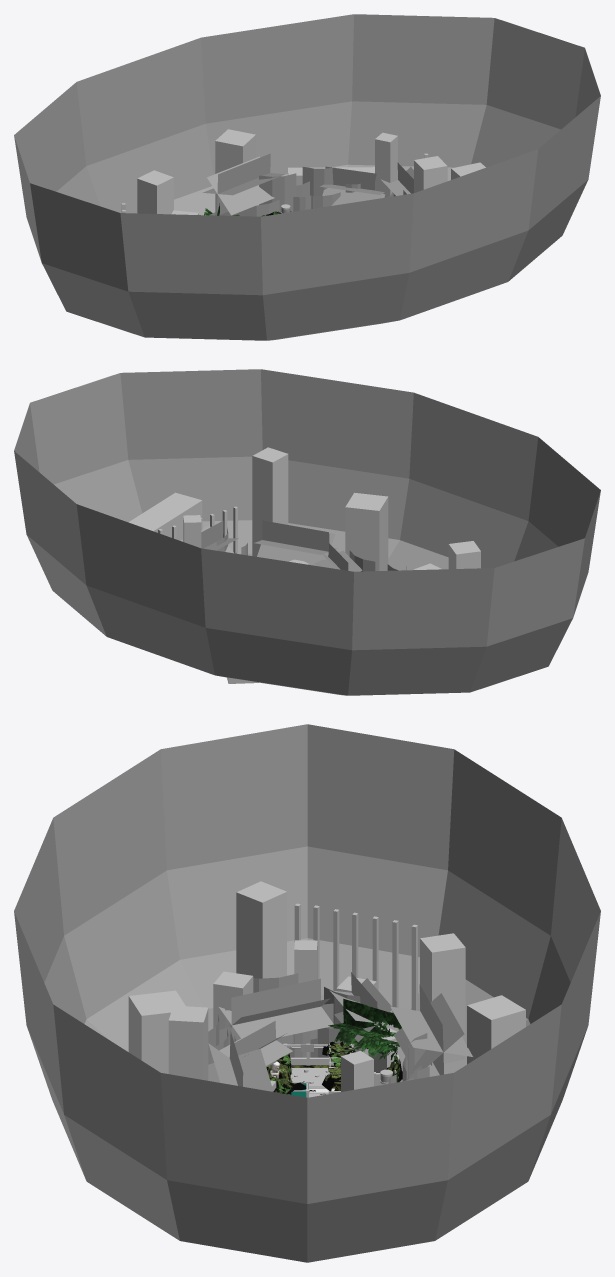
3 renders of one model, top to bottom at view 1: azimuth 30°, elevation 25°; view 2: azimuth 150°, elevation 25°; view 3: azimuth 270°, elevation 25°, orthographic. The views are drawn at different scales.
Visible parts, largest first — view 1: Circle, Plane_050_Plane_053, Plane_043_Plane_035, Plane_045_Plane_051, Plane_035_Plane_014, Plane_040_Plane_031, Plane_041_Plane_033, Plane_000_Plane_029, Plane_010_Plane_036, Plane_053_Plane_046; view 2: Circle, Plane_041_Plane_033, Plane_037_Plane_027, Plane_051_Plane_054, Plane_008_Plane_015, Plane_048_Plane_058, Plane_053_Plane_046, Plane_047_Plane_048, Plane_040_Plane_031, Plane_007_Plane_013; view 3: Circle, Plane_048_Plane_058, Plane_046_Plane_052, Plane_050_Plane_053, Plane_035_Plane_014, Plane_003_Plane_009, Plane_037_Plane_027, Plane_041_Plane_033, Plane_043_Plane_035, Plane_052_Plane_041, Plane_051_Plane_054, 02_Nature_Plane_1409 (+6 smaller).
Boxes of the visible parts, x1,y1,x2,y2 form: Circle: (14, 14, 600, 340); Plane_050_Plane_053: (202, 153, 284, 215); Plane_043_Plane_035: (215, 129, 255, 216); Plane_045_Plane_051: (320, 166, 385, 205); Plane_035_Plane_014: (137, 170, 173, 214); Plane_040_Plane_031: (375, 132, 397, 197); Plane_041_Plane_033: (414, 156, 447, 192); Plane_000_Plane_029: (259, 173, 296, 212); Plane_010_Plane_036: (302, 167, 335, 208); Plane_053_Plane_046: (381, 162, 413, 197); Circle: (14, 369, 600, 695); Plane_041_Plane_033: (252, 447, 288, 556); Plane_037_Plane_027: (345, 492, 388, 571); Plane_051_Plane_054: (254, 520, 337, 565); Plane_008_Plane_015: (128, 492, 202, 540); Plane_048_Plane_058: (448, 541, 480, 569); Plane_053_Plane_046: (180, 521, 238, 553); Plane_047_Plane_048: (314, 543, 362, 571); Plane_040_Plane_031: (183, 515, 201, 547); Plane_007_Plane_013: (158, 506, 237, 553); Circle: (14, 724, 600, 1262); Plane_048_Plane_058: (236, 881, 286, 978); Plane_046_Plane_052: (219, 978, 333, 1044); Plane_050_Plane_053: (390, 984, 472, 1074); Plane_035_Plane_014: (420, 933, 465, 1065); Plane_003_Plane_009: (294, 903, 417, 1013); Plane_037_Plane_027: (128, 990, 185, 1073); Plane_041_Plane_033: (168, 1005, 208, 1080); Plane_043_Plane_035: (467, 995, 525, 1064); Plane_052_Plane_041: (328, 998, 401, 1060); Plane_051_Plane_054: (208, 1031, 273, 1091); 02_Nature_Plane_1409: (266, 1041, 402, 1094).
Bounding box in the file's own units: 596 × 396 × 176.
